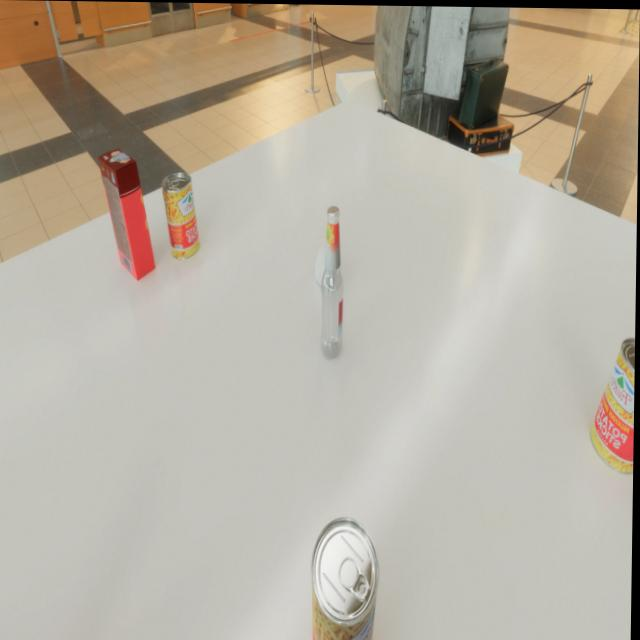Bottle: (320, 205, 346, 358)
HelloPanda: (97, 148, 158, 280)
Potato_sticks: (312, 515, 382, 640), (591, 335, 636, 472), (161, 172, 201, 259)
Salt: (316, 241, 337, 287)
